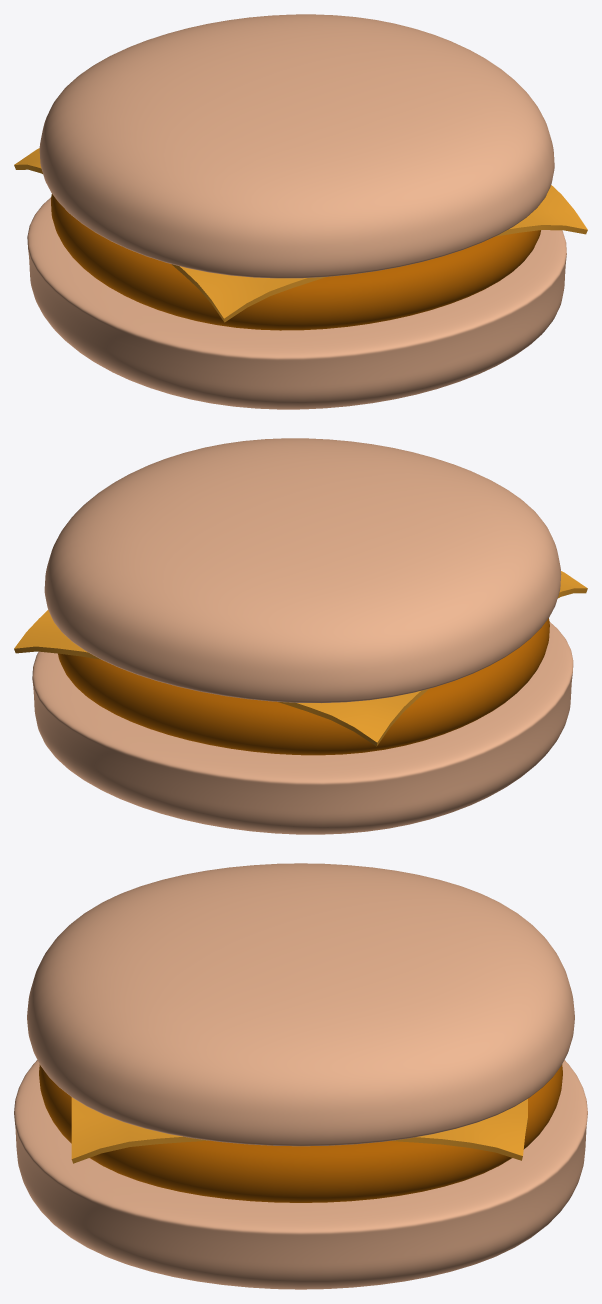
Rendered from hamburger.glb.
3 views of the same model, one above another, from view 1: azimuth 30°, elevation 25°; view 2: azimuth 150°, elevation 25°; view 3: azimuth 270°, elevation 25° (orthographic). The views are drawn at different scales.
Parts seen in each view (by area): view 1: Cube.003, Cube.002, Cube.001, Plane; view 2: Cube.003, Cube.002, Cube.001, Plane; view 3: Cube.003, Cube.002, Cube.001, Plane.
Part boxes in pixels (x1,y1,x2,y2): Cube.003: [39, 14, 554, 278]; Cube.002: [27, 197, 566, 409]; Cube.001: [51, 194, 540, 330]; Plane: [14, 148, 587, 322]; Cube.003: [44, 438, 561, 703]; Cube.002: [32, 622, 573, 834]; Cube.001: [58, 618, 549, 755]; Plane: [14, 571, 587, 746]; Cube.003: [27, 863, 574, 1146]; Cube.002: [14, 1060, 587, 1289]; Cube.001: [39, 1064, 562, 1202]; Plane: [71, 1097, 527, 1163].
Bounding box in the file's own units: 9.4 × 4.88 × 9.4.
